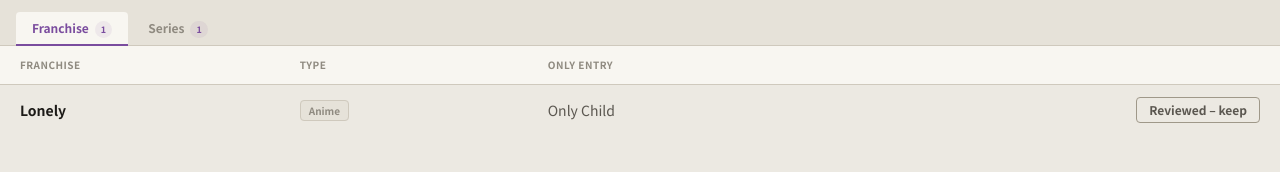
Test: shows the refusal when the group changed meanwhile
Click the button "Reviewed – keep": click(1198, 110) [1136, 97, 1260, 123]
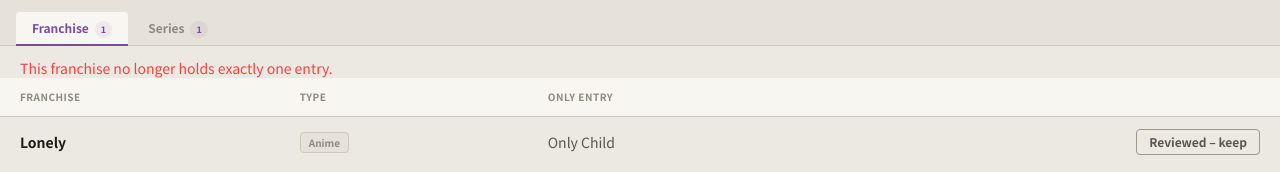
Expected: the message shows "no longer holds exactly one entry", [20, 58, 333, 78]
